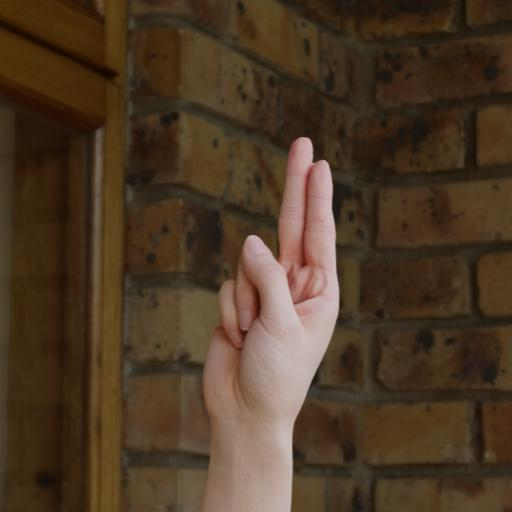U: (194, 132, 354, 444)
